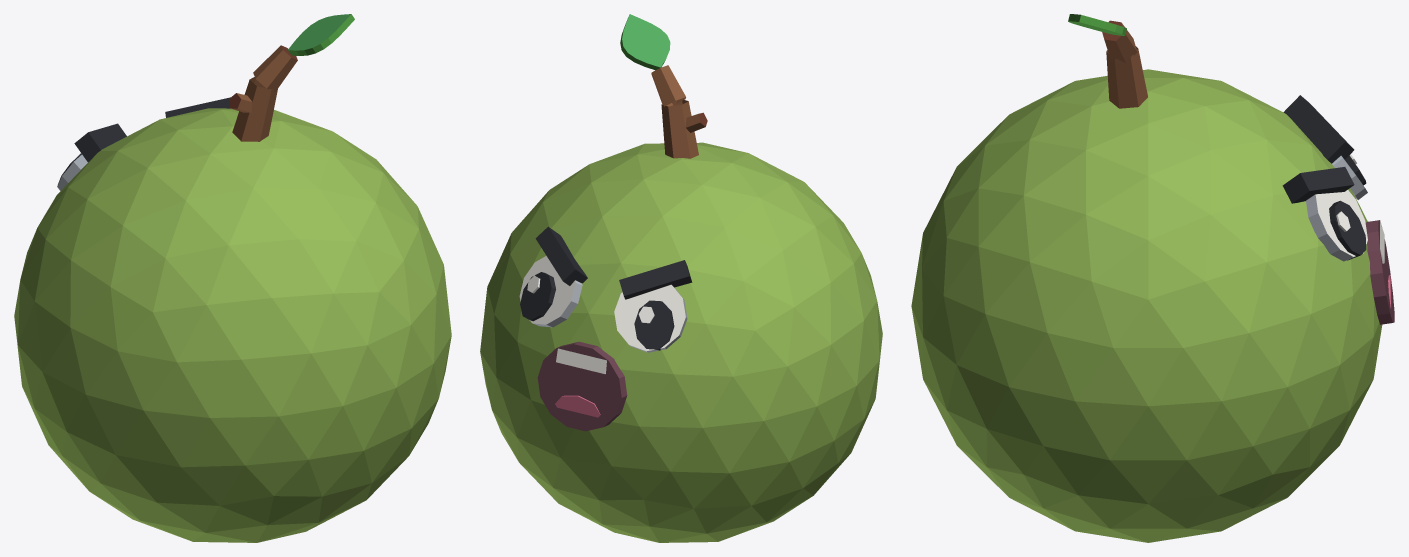
Rendered from CH_Dalcik_T4_Eat.fbx.
The picture shows the model from 3 angles, left to right: view 1: azimuth 30°, elevation 25°; view 2: azimuth 150°, elevation 25°; view 3: azimuth 270°, elevation 25°; orthographic projection. The views are drawn at different scales.
Visible parts, largest first — view 1: CH_Dalcik_T4_Eat; view 2: CH_Dalcik_T4_Eat; view 3: CH_Dalcik_T4_Eat.
Part boxes in pixels (box(x1,y1,x2,y2)): CH_Dalcik_T4_Eat: box(14, 14, 451, 542); CH_Dalcik_T4_Eat: box(480, 14, 882, 542); CH_Dalcik_T4_Eat: box(911, 14, 1394, 542).
Bounding box in the file's own units: 1 × 1.29 × 1.02.
